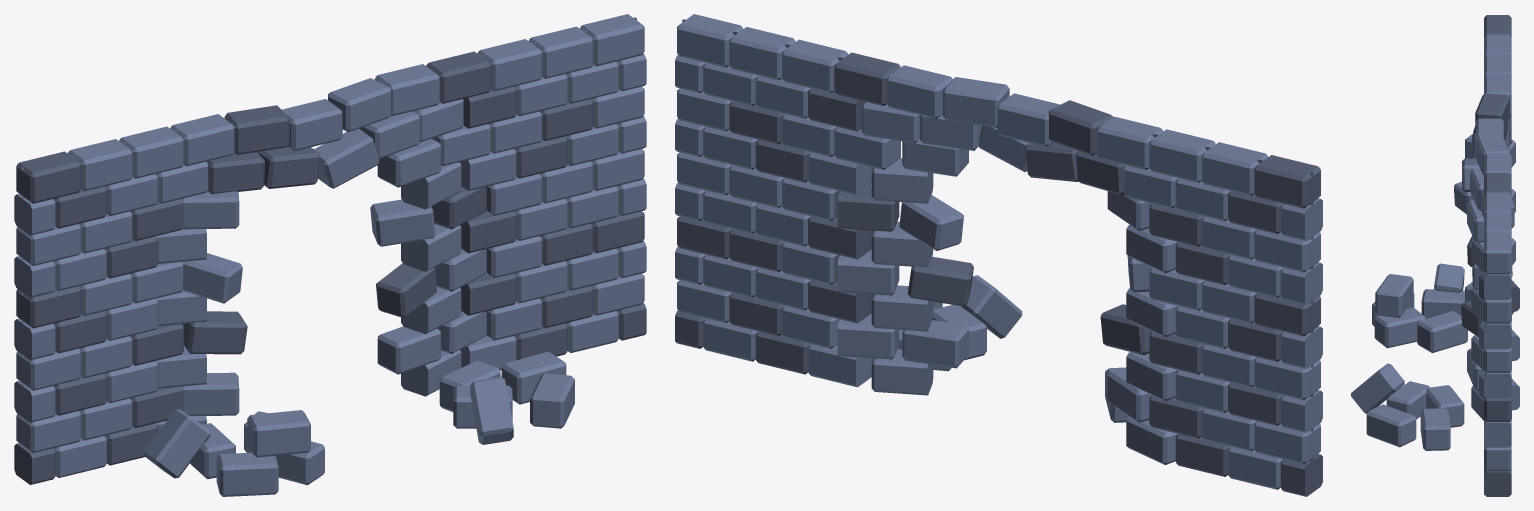
The model's file is muro roto.fbx.
3 views of the same model, side by side, from view 1: azimuth 30°, elevation 25°; view 2: azimuth 150°, elevation 25°; view 3: azimuth 270°, elevation 25° (orthographic). The views are drawn at different scales.
Visible parts, largest first — view 1: ruined wall; view 2: ruined wall; view 3: ruined wall.
Part boxes in pixels (x1,y1,x2,y2): ruined wall: [14, 14, 646, 496]; ruined wall: [675, 14, 1322, 496]; ruined wall: [1351, 15, 1519, 496].
Size of the model in its own units: 632 by 307 by 190.
